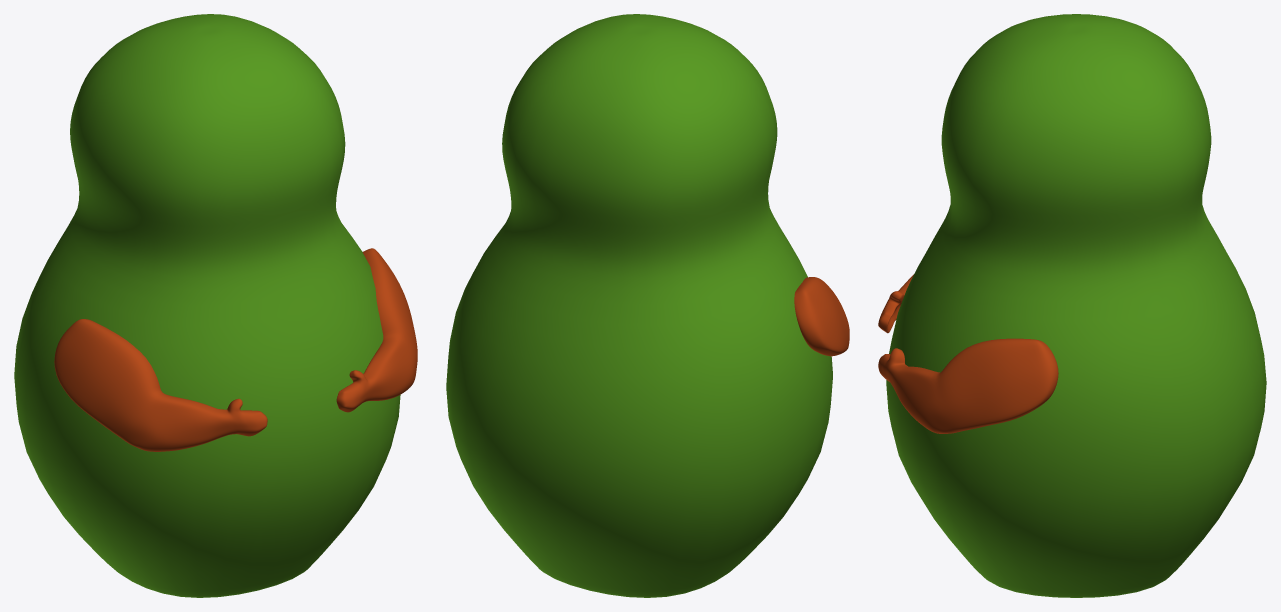
Rendered from green-1.glb.
3 views of the same model, side by side, from view 1: azimuth 30°, elevation 25°; view 2: azimuth 150°, elevation 25°; view 3: azimuth 270°, elevation 25° (orthographic).
Visible parts, largest first — view 1: Cube, Cube.001; view 2: Cube, Cube.001; view 3: Cube, Cube.001.
Part boxes in pixels (x1,y1,x2,y2): Cube: (14, 14, 400, 597); Cube.001: (54, 248, 417, 451); Cube: (446, 14, 832, 597); Cube.001: (794, 277, 849, 356); Cube: (886, 14, 1266, 597); Cube.001: (878, 274, 1058, 433).
Bounding box in the file's own units: 2.96 × 4.36 × 2.9.
